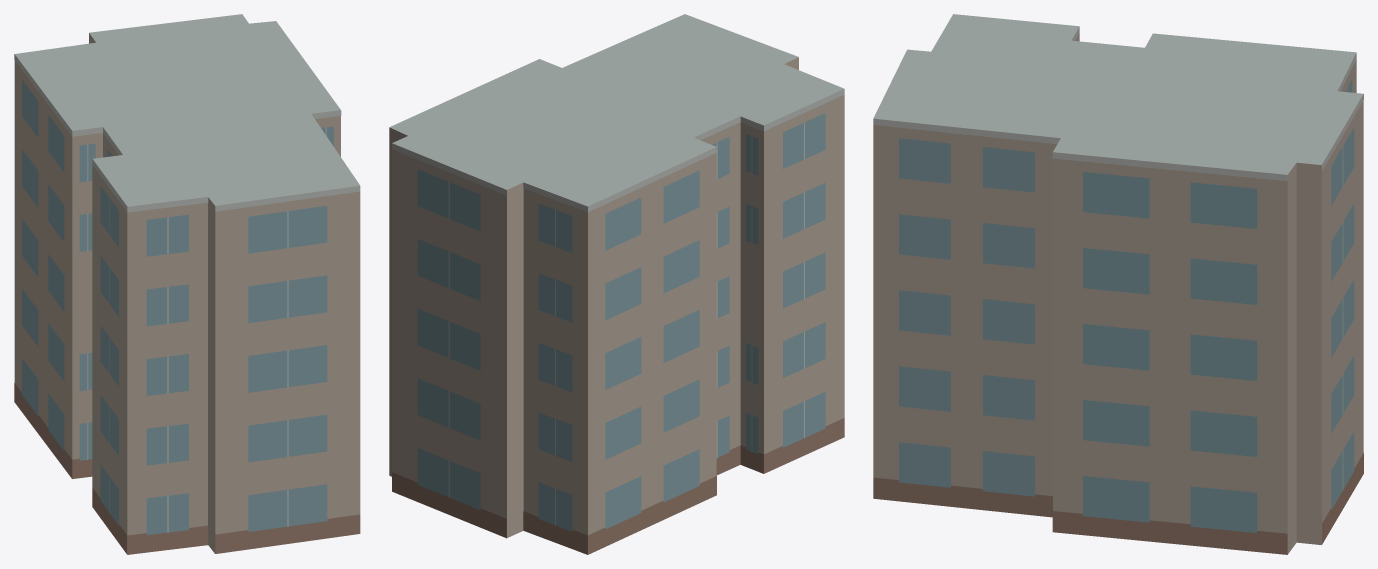
Rendered from survey-upis-32962053.glb.
The picture shows the model from 3 angles, left to right: view 1: azimuth 30°, elevation 25°; view 2: azimuth 150°, elevation 25°; view 3: azimuth 270°, elevation 25°; orthographic projection. The views are drawn at different scales.
Parts seen in each view (by area): view 1: survey-upis-32962053.tmp; view 2: survey-upis-32962053.tmp; view 3: survey-upis-32962053.tmp.
Part boxes in pixels (bbox=[...]): survey-upis-32962053.tmp: bbox=[14, 14, 360, 554]; survey-upis-32962053.tmp: bbox=[389, 14, 844, 554]; survey-upis-32962053.tmp: bbox=[873, 14, 1363, 554].
Bounding box in the file's own units: 13.26 × 14.6 × 17.09.
